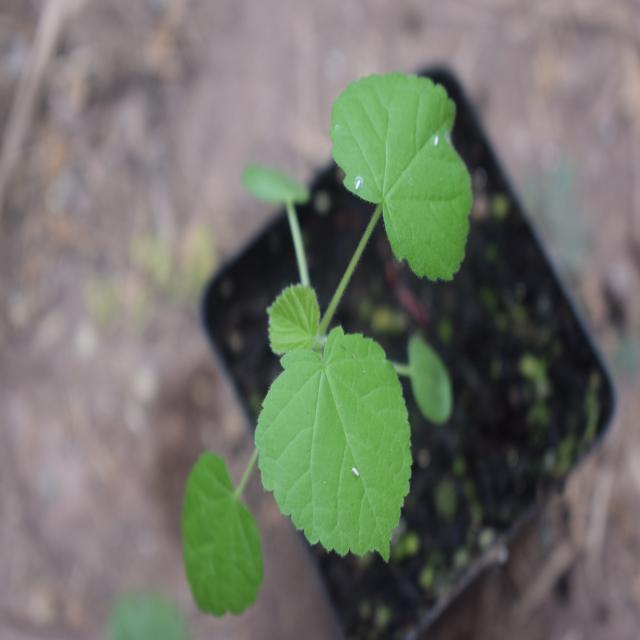abutilon theophrasti: (164, 66, 496, 615)
